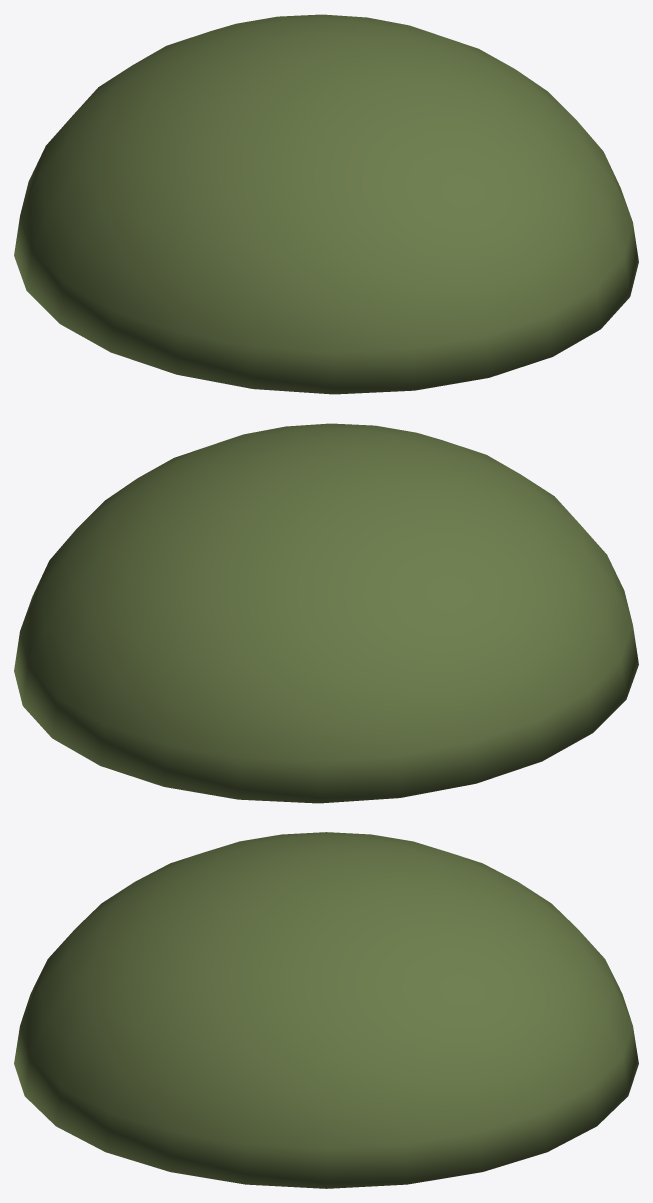
The model's file is infantry-helmet.glb.
The picture shows the model from 3 angles, top to bottom: view 1: azimuth 30°, elevation 25°; view 2: azimuth 150°, elevation 25°; view 3: azimuth 270°, elevation 25°; orthographic projection. The views are drawn at different scales.
Visible parts, largest first — view 1: infantry-helmet-shell; view 2: infantry-helmet-shell; view 3: infantry-helmet-shell.
Boxes of the visible parts, x1,y1,x2,y2 form: infantry-helmet-shell: (14,14,638,394); infantry-helmet-shell: (14,423,638,803); infantry-helmet-shell: (14,832,638,1188).
Bounding box in the file's own units: 0.286 × 0.1053 × 0.302.
